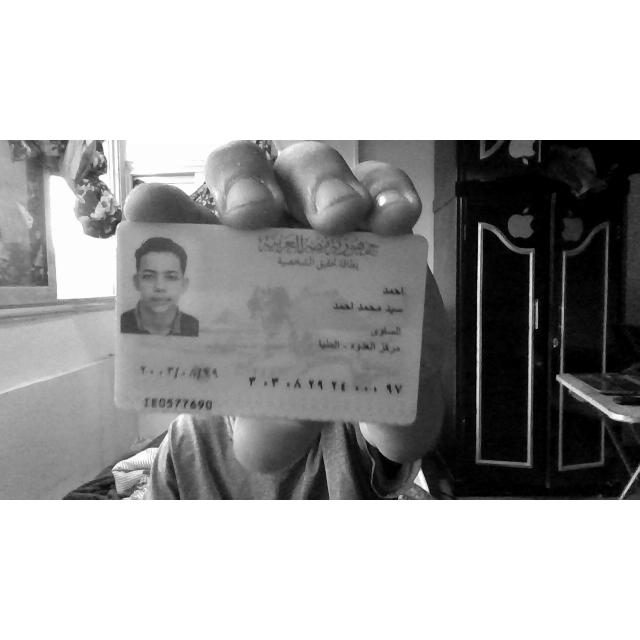id_card: (114, 222, 428, 424)
